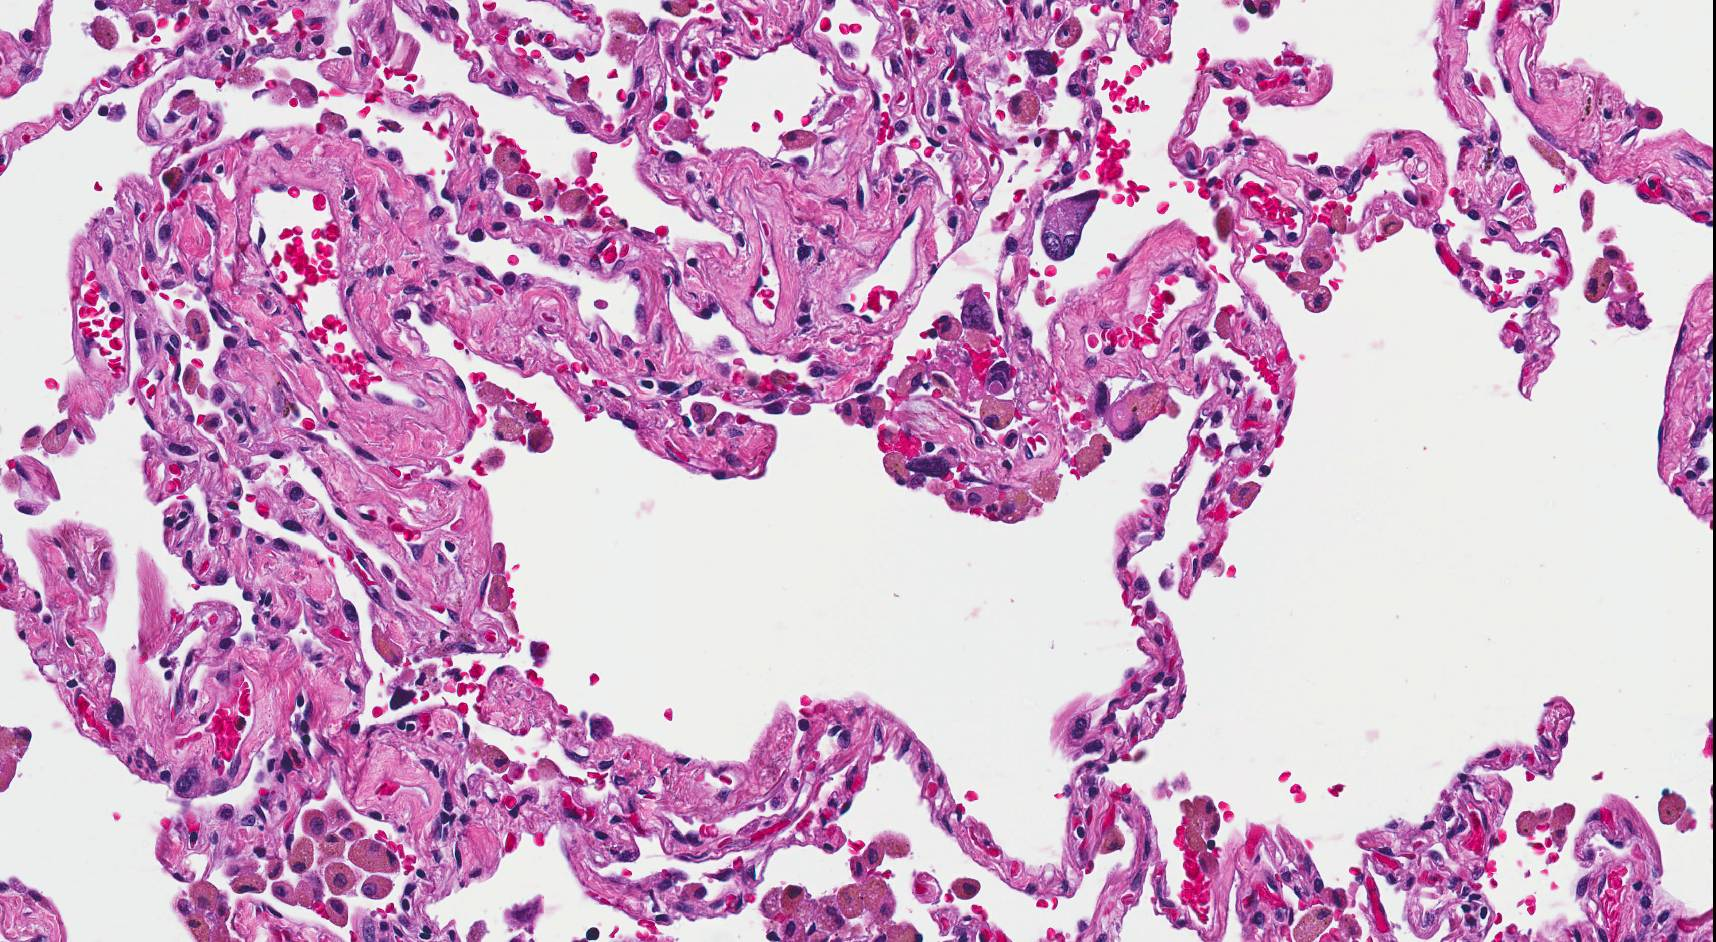stas: (1040, 190, 1099, 263)
